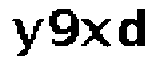9: (47, 8, 80, 49)
d: (115, 6, 149, 49)
x: (79, 14, 112, 50)
y: (9, 16, 46, 60)
